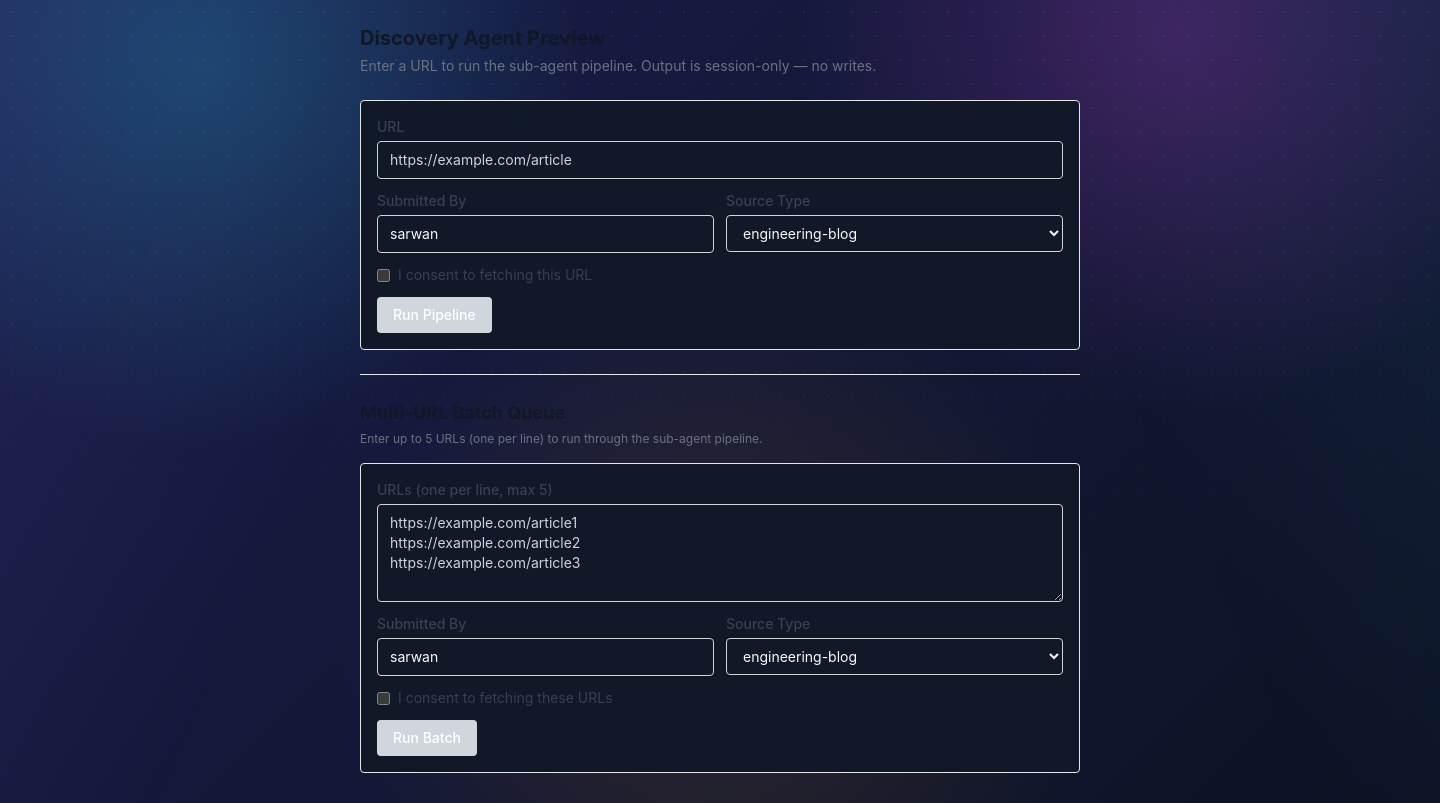
Test: DiscoveryAgentPreview › shows success banner after successful run
Type "https://example.com/test" into the field with placeholder "https://example.com/article" at [720, 160], box [377,141,1063,179]
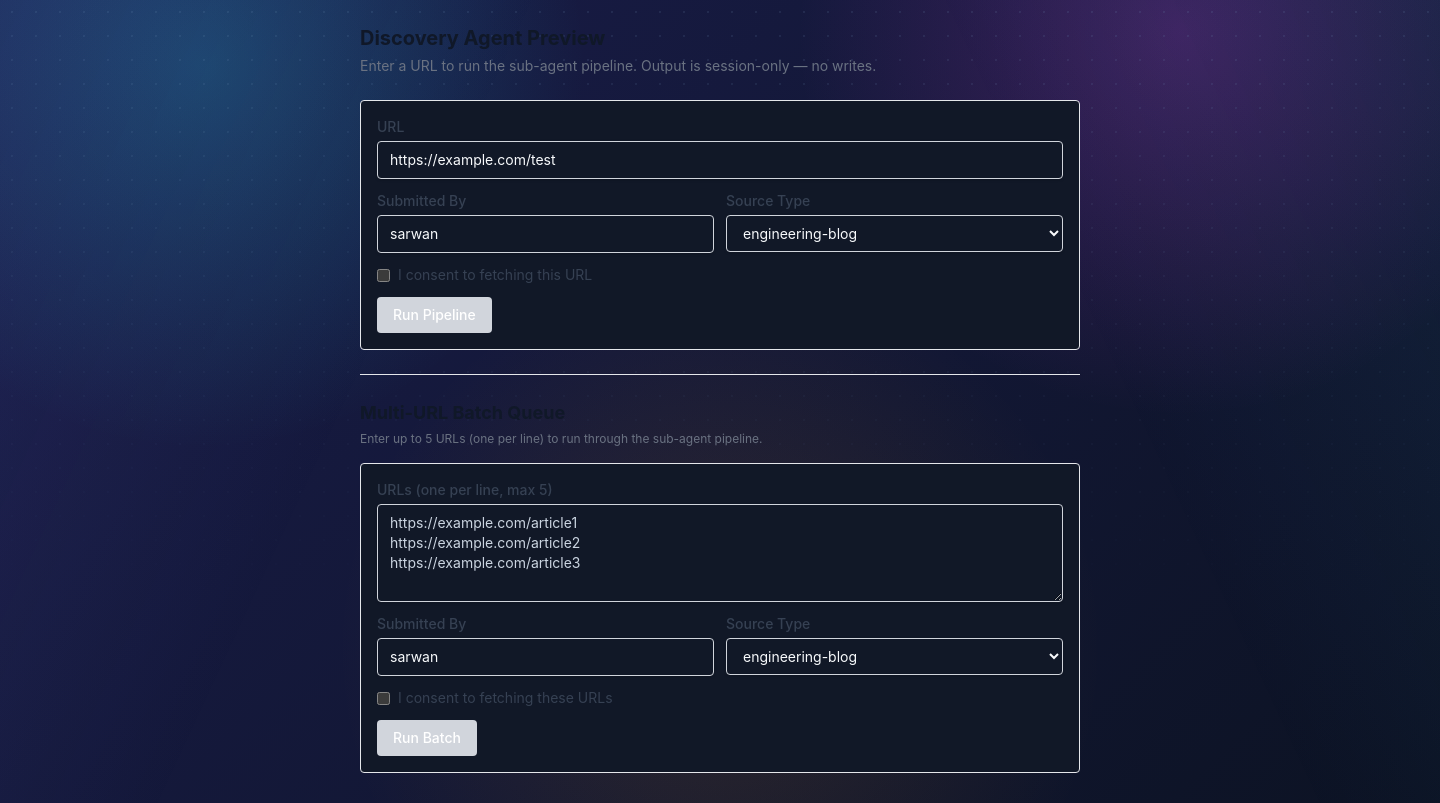
Click the text "I consent to fetching this URL" at [495, 275], box [398,265,592,285]
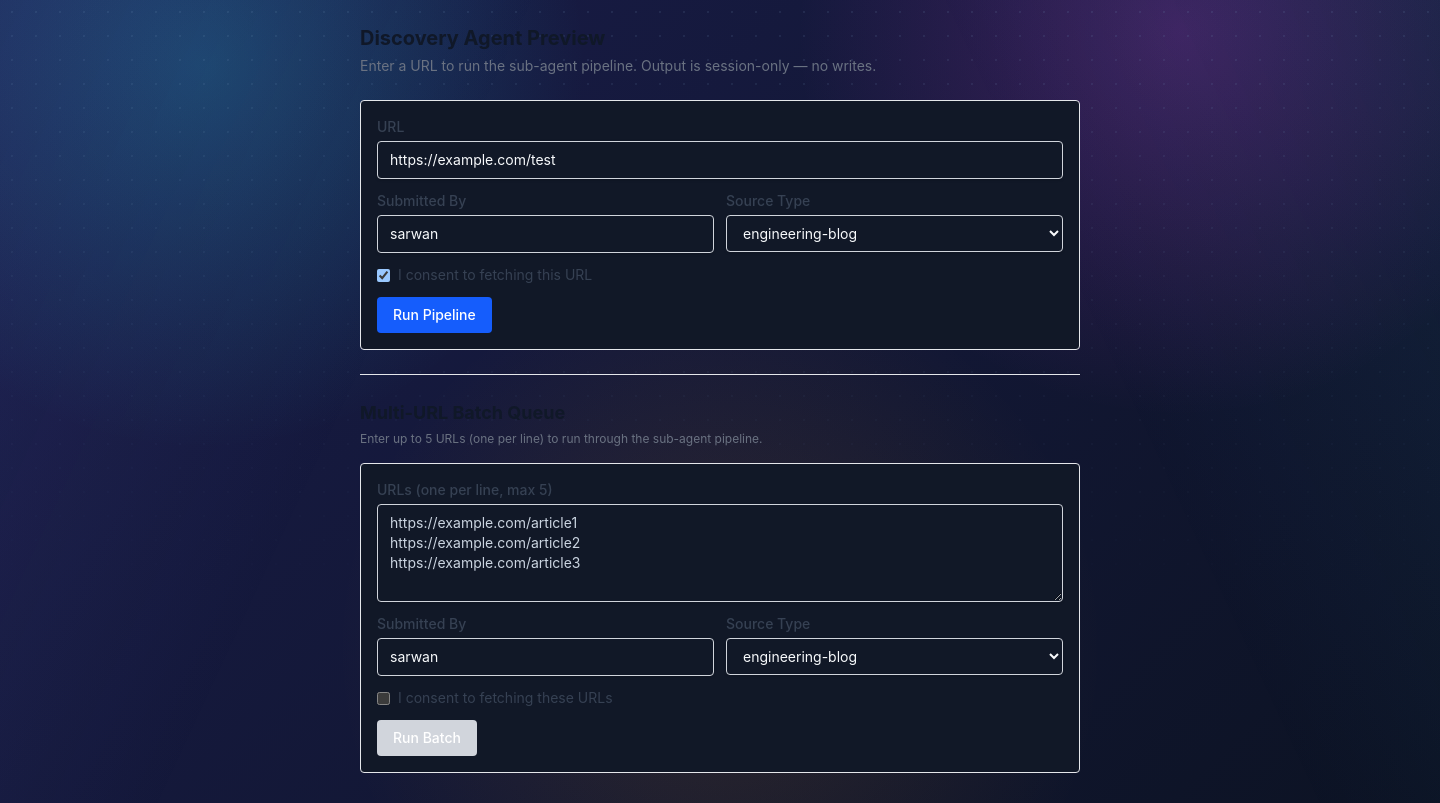
Click the button "Run Pipeline" at [434, 315], box [377,297,492,333]
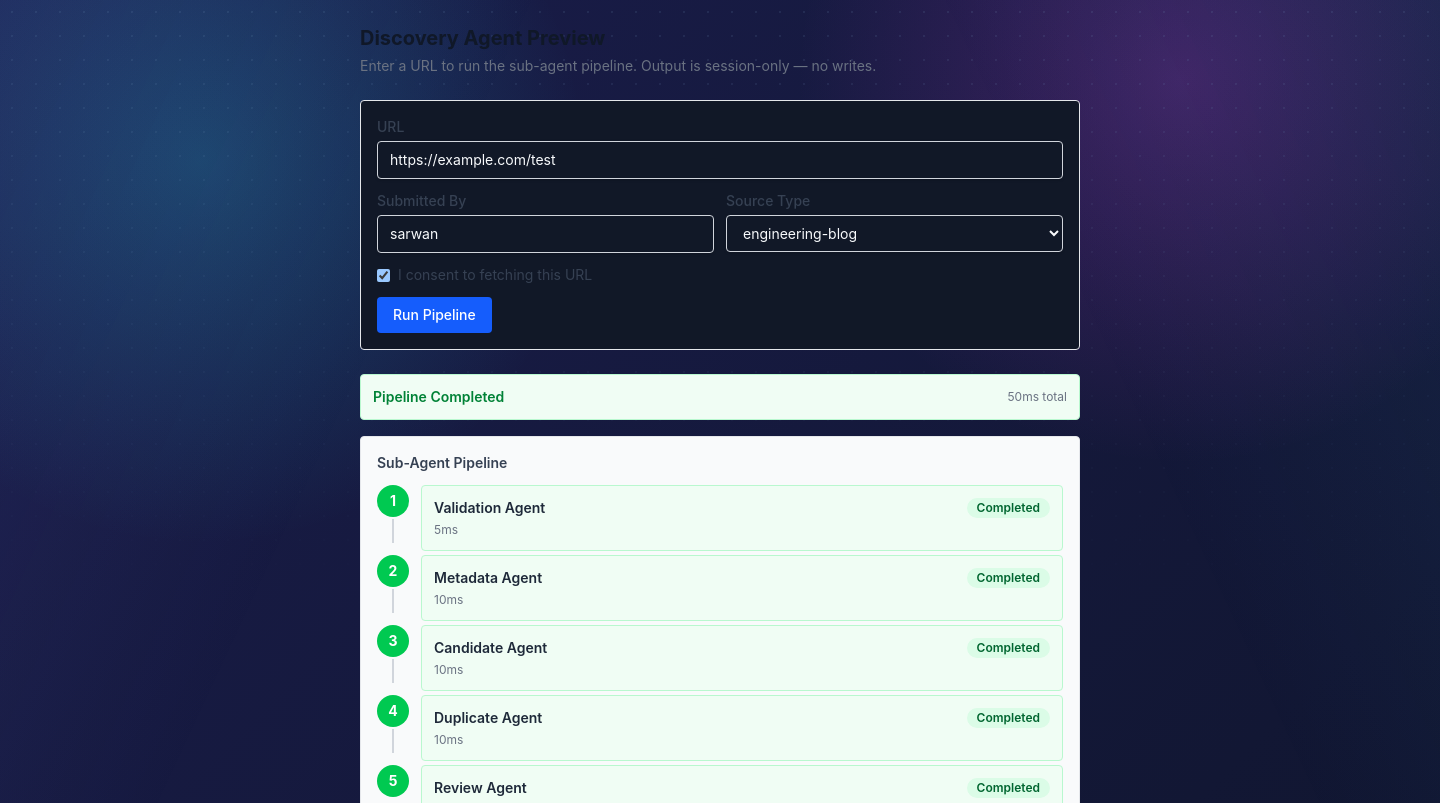
Now the text "Pipeline Completed" is shown, box [373,387,504,407]
